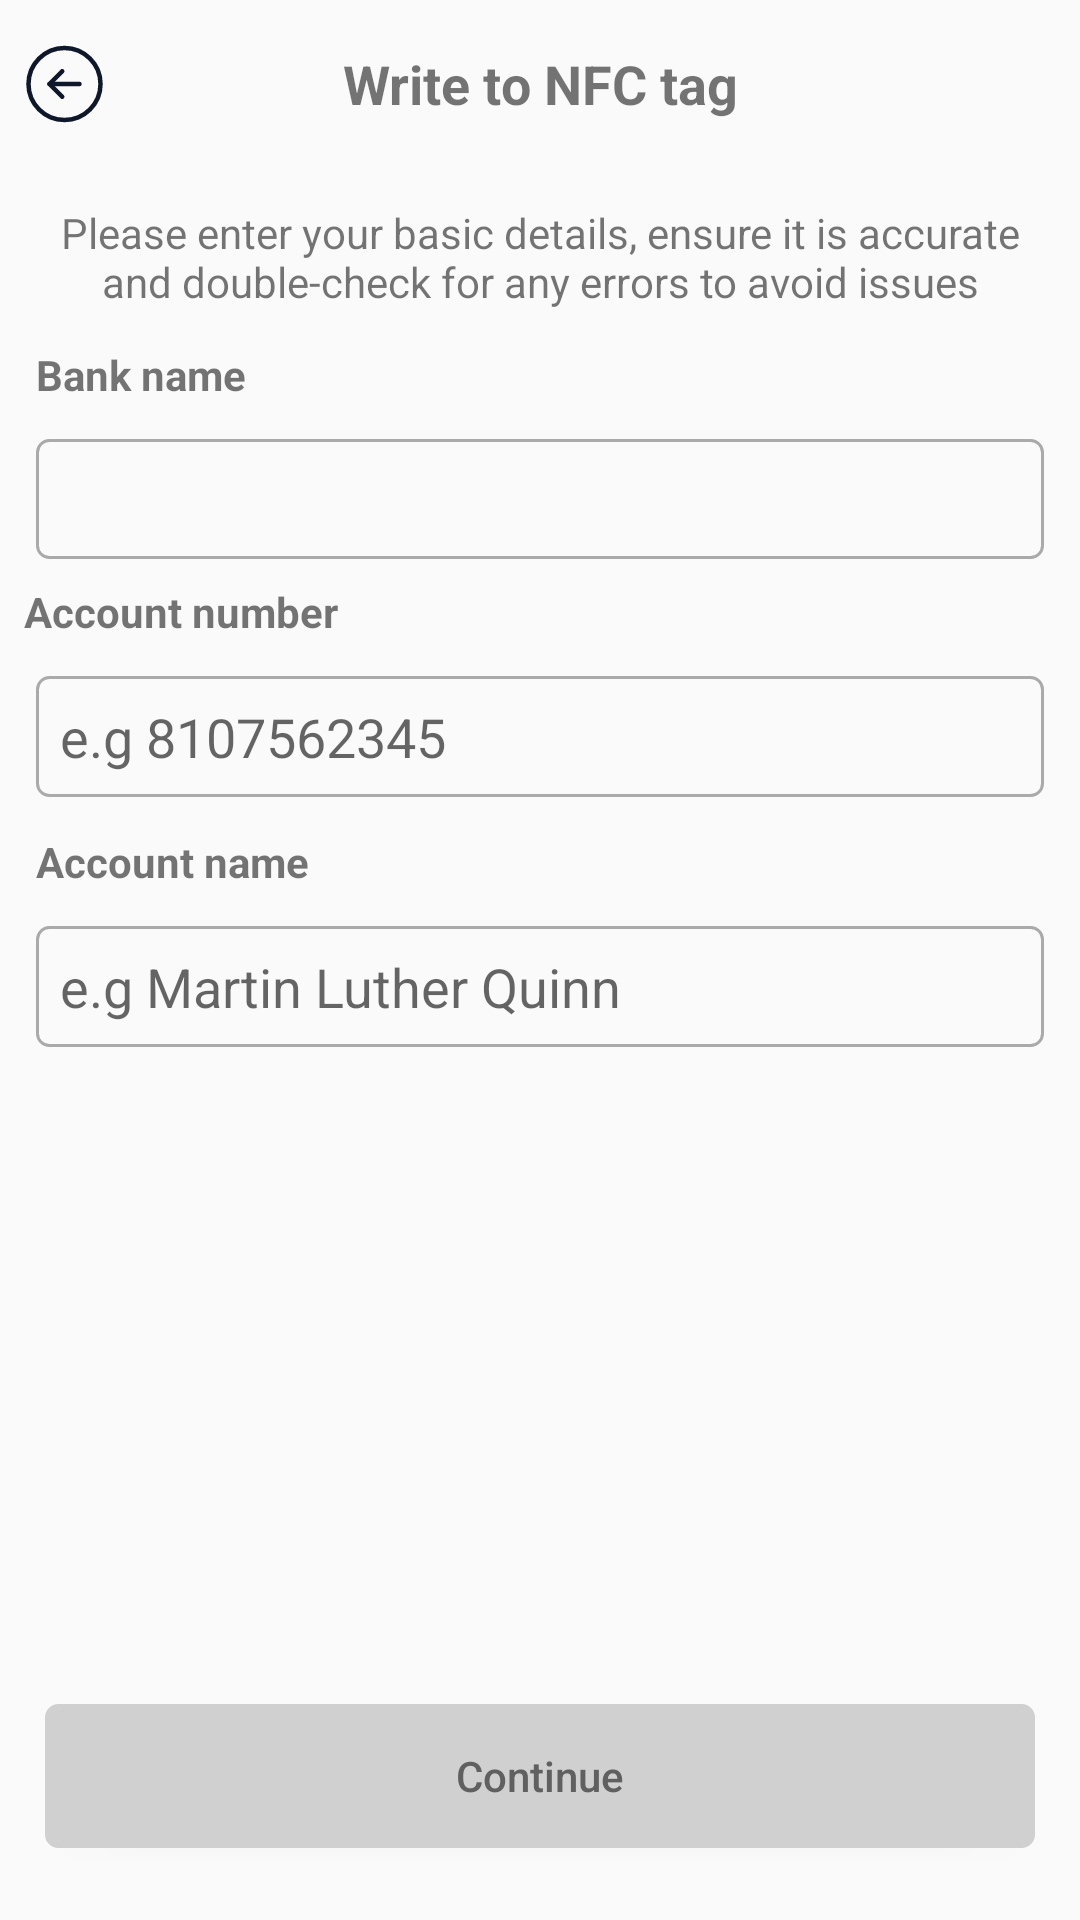

Icon bounding boxes for this 1080 x 1920 phone screenshot, format BBox(x1, y1, x2, y2):
back: BBox(26, 45, 103, 123)
